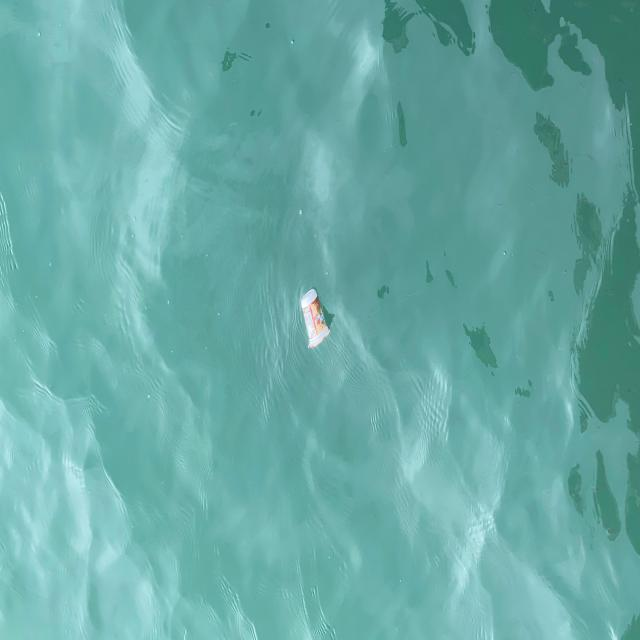Bungkus Minuman: (295, 279, 335, 358)
